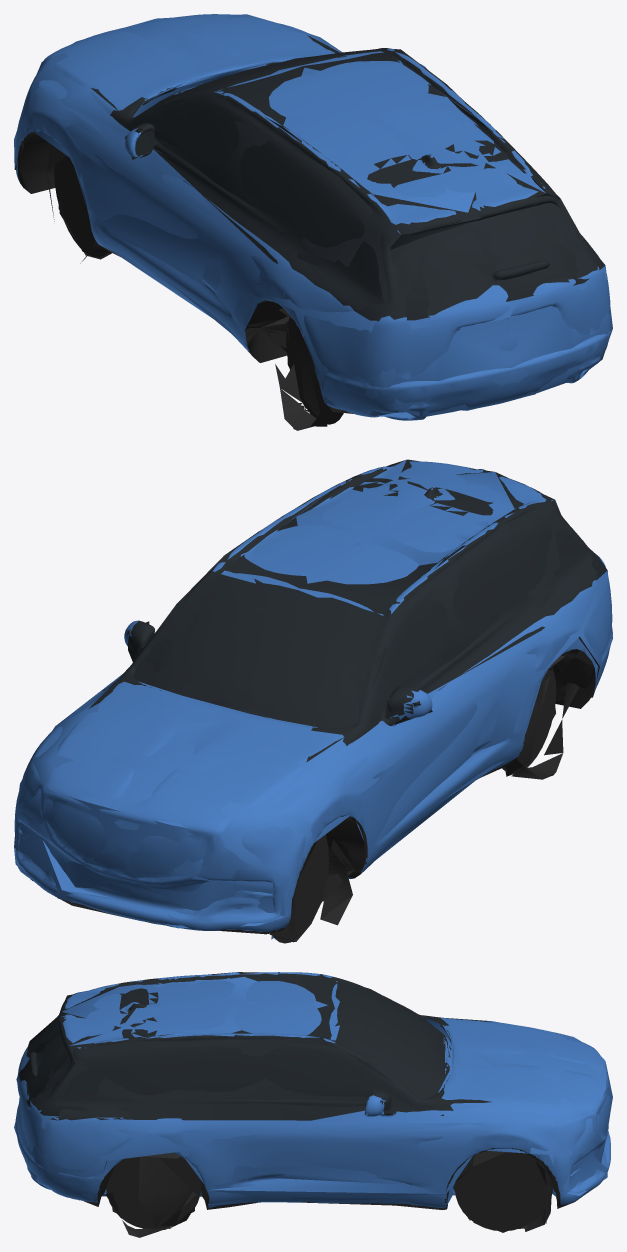
The model's file is genesis-gv80.glb.
3 views of the same model, one above another, from view 1: azimuth 30°, elevation 25°; view 2: azimuth 150°, elevation 25°; view 3: azimuth 270°, elevation 25° (orthographic). The views are drawn at different scales.
Parts seen in each view (by area): view 1: body, far; view 2: body, far; view 3: body, far.
Boxes of the visible parts, bbox=[...] form: body: bbox=[15, 14, 611, 430]; far: bbox=[14, 14, 612, 429]; body: bbox=[14, 461, 612, 943]; far: bbox=[14, 459, 612, 942]; body: bbox=[15, 972, 610, 1237]; far: bbox=[14, 972, 612, 1232].
Bounding box in the file's own units: 2.23 × 1.76 × 5.01.
